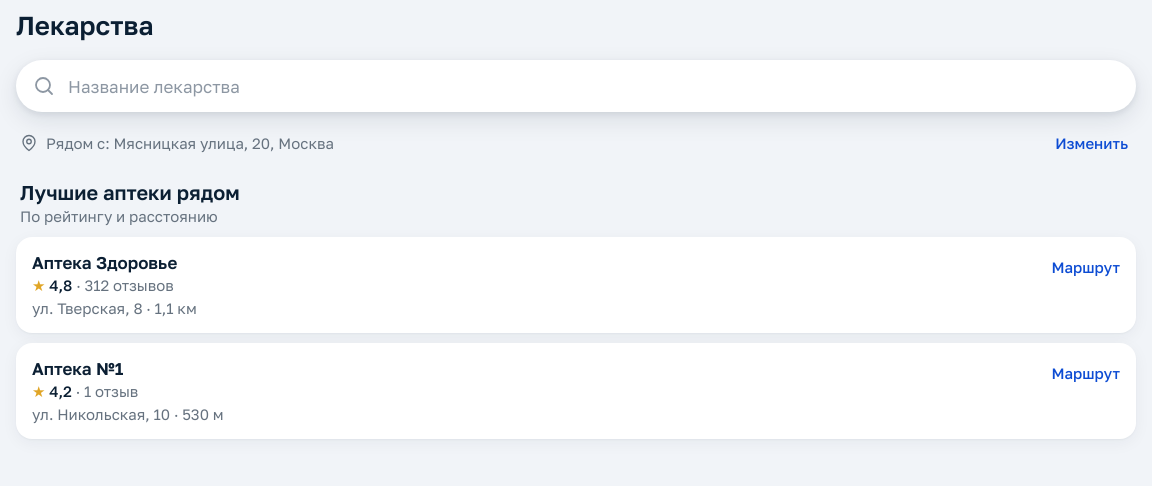
Test: MedicinesPage › если лекарство не найдено, пишет об этом
Type "стол" into the field labelled "Название лекарства" at (593, 86), box 66,60 -> 1120,112
Then press Enter
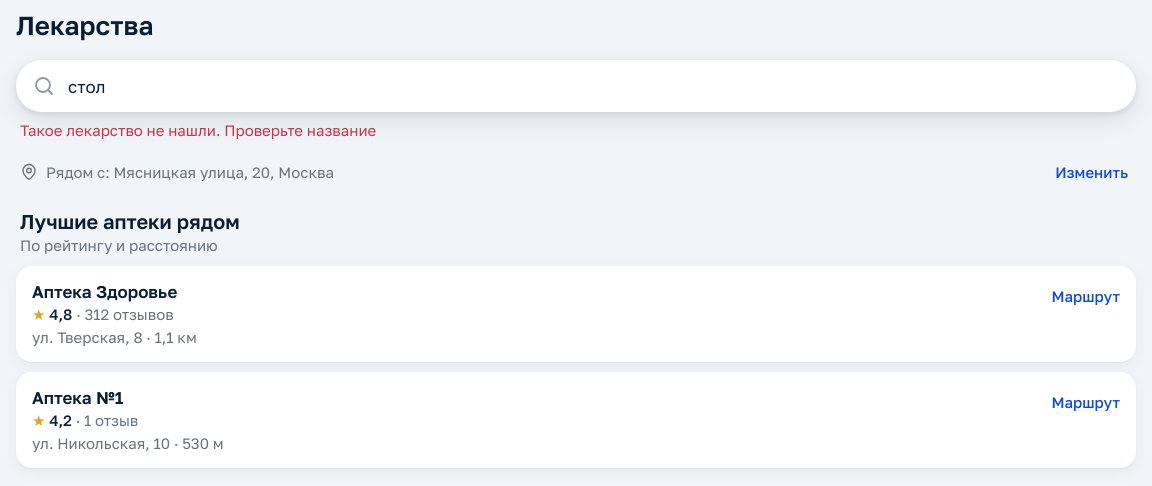
Check: the text "Такое лекарство не нашли. Проверьте название" is shown, box 20,121 -> 376,139
Type "ы" into the field named "Название лекарства" at (593, 86), box 66,60 -> 1120,112
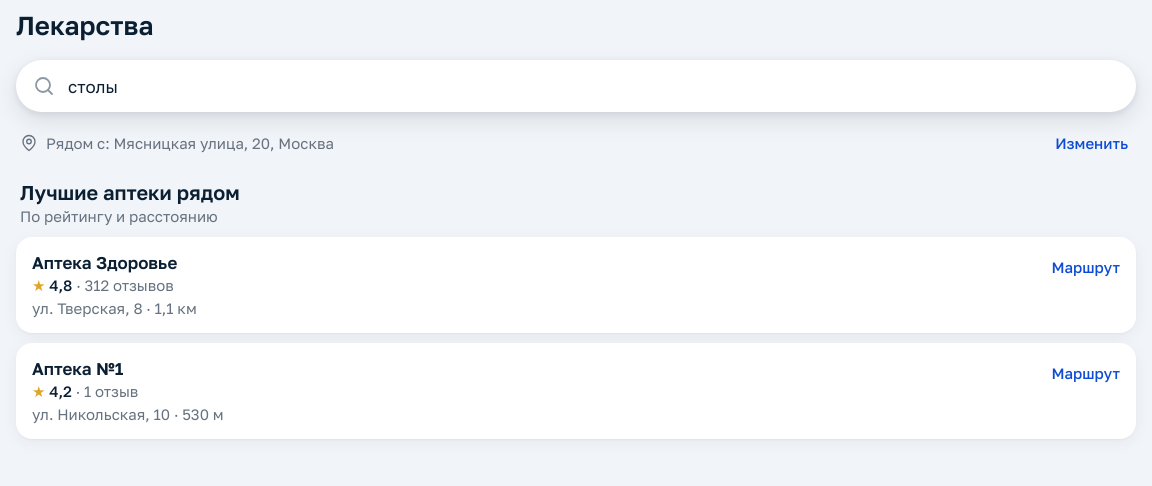
Check: the text "Такое лекарство не нашли. Проверьте название" is gone
